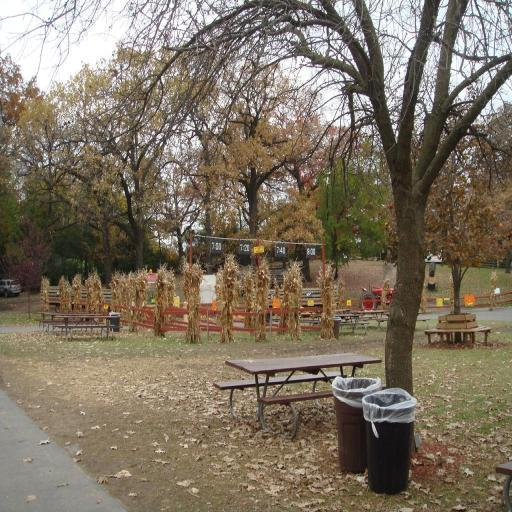trash-can: (361, 380, 421, 496)
